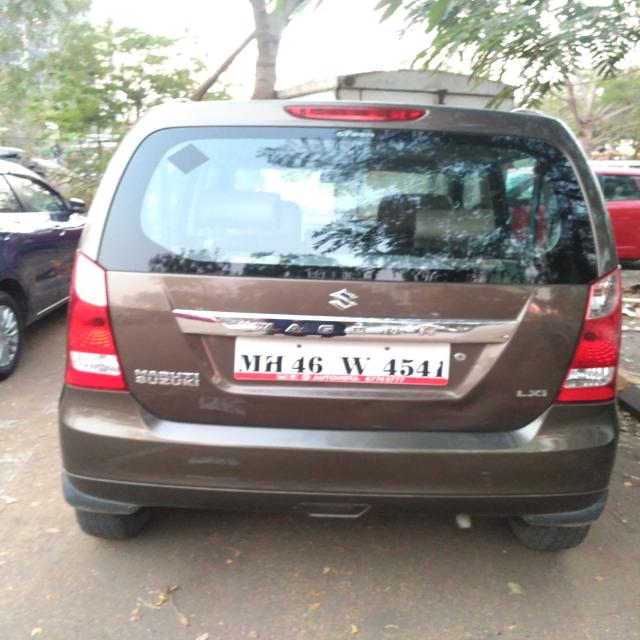Number-Plate: (234, 343, 454, 384)
